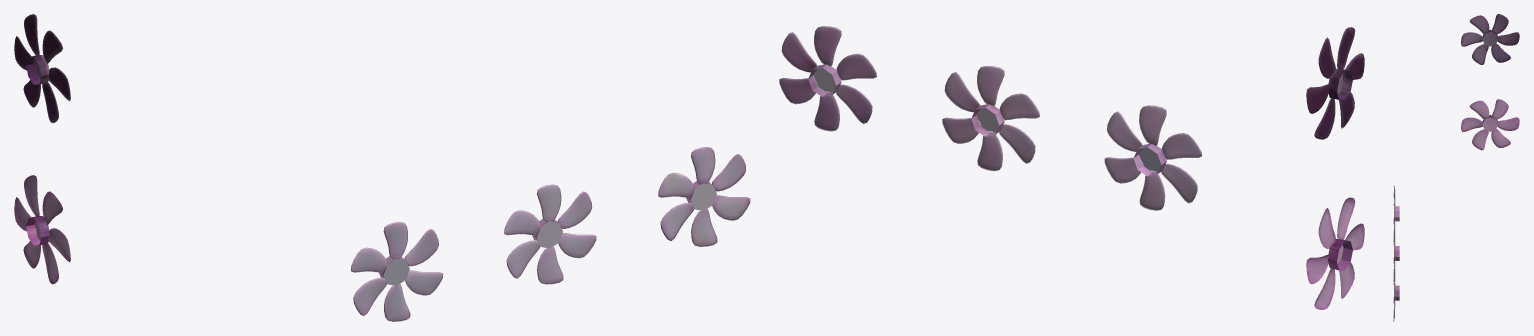
Rendered from pc-fans.glb.
3 views of the same model, side by side, from view 1: azimuth 30°, elevation 25°; view 2: azimuth 150°, elevation 25°; view 3: azimuth 270°, elevation 25° (orthographic). The views are drawn at different scales.
Parts seen in each view (by area): view 1: Computer_Fan_3_Fourth_Raycaster, Computer_Fan_5_Fourth_Raycaster, Computer_Fan_1_Fourth_Raycaster, Computer_Fan_2_Fourth_Raycaster, Computer_Fan_4_Fourth_Raycaster; view 2: Computer_Fan_3_Fourth_Raycaster, Computer_Fan_5_Fourth_Raycaster, Computer_Fan_1_Fourth_Raycaster, Computer_Fan_2_Fourth_Raycaster, Computer_Fan_4_Fourth_Raycaster; view 3: Computer_Fan_2_Fourth_Raycaster, Computer_Fan_4_Fourth_Raycaster, Computer_Fan_5_Fourth_Raycaster, Computer_Fan_1_Fourth_Raycaster, Computer_Fan_3_Fourth_Raycaster.
Boxes of the visible parts, x1,y1,x2,y2 form: Computer_Fan_3_Fourth_Raycaster: [504, 184, 596, 284]; Computer_Fan_5_Fourth_Raycaster: [658, 147, 750, 246]; Computer_Fan_1_Fourth_Raycaster: [351, 222, 443, 321]; Computer_Fan_2_Fourth_Raycaster: [14, 175, 70, 284]; Computer_Fan_4_Fourth_Raycaster: [14, 14, 70, 123]; Computer_Fan_3_Fourth_Raycaster: [942, 66, 1039, 171]; Computer_Fan_5_Fourth_Raycaster: [779, 26, 876, 131]; Computer_Fan_1_Fourth_Raycaster: [1104, 105, 1201, 210]; Computer_Fan_2_Fourth_Raycaster: [1306, 197, 1364, 309]; Computer_Fan_4_Fourth_Raycaster: [1306, 27, 1364, 139]; Computer_Fan_2_Fourth_Raycaster: [1461, 99, 1519, 150]; Computer_Fan_4_Fourth_Raycaster: [1461, 14, 1519, 64]; Computer_Fan_5_Fourth_Raycaster: [1393, 265, 1399, 321]; Computer_Fan_1_Fourth_Raycaster: [1393, 185, 1399, 242]; Computer_Fan_3_Fourth_Raycaster: [1393, 225, 1399, 281].
Bounding box in the file's own units: 1.38 × 0.632 × 0.4559.
1 material, 1 textured.
